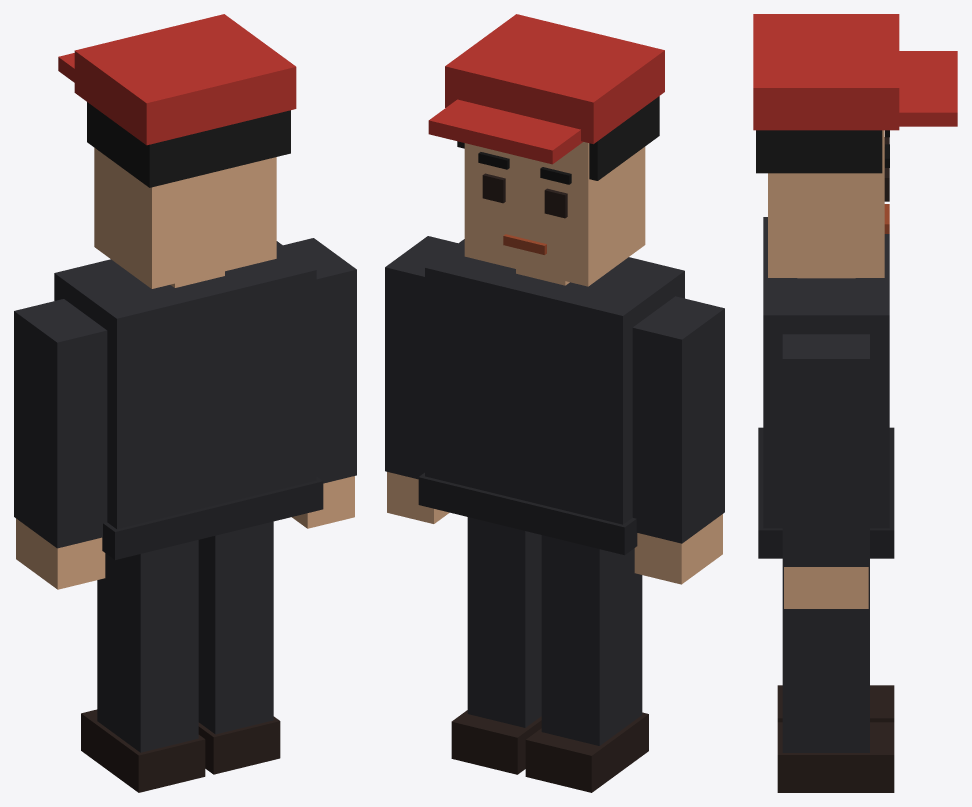
Rendered from burglar.glb.
3 renders of one model, left to right at view 1: azimuth 30°, elevation 25°; view 2: azimuth 150°, elevation 25°; view 3: azimuth 270°, elevation 25°, orthographic. The views are drawn at different scales.
Parts seen in each view (by area): view 1: Box9, Box3, Box19, Box1, Box12, Box5, Box7, Box18, Box10, Box2, Box4, Box6 (+1 smaller); view 2: Box9, Box3, Box1, Box12, Box19, Box5, Box7, Box10, Box20, Box2, Box6, Box4 (+4 smaller); view 3: Box7, Box19, Box9, Box5, Box12, Box6, Box18, Box20, Box8, Box10, Box2.
Part boxes in pixels (left/top/right/bottom): Box9: left=54, top=241, right=316, bottom=529; Box3: left=14, top=299, right=107, bottom=548; Box19: left=74, top=14, right=296, bottom=145; Box1: left=97, top=540, right=198, bottom=752; Box12: left=94, top=148, right=276, bottom=288; Box5: left=198, top=521, right=273, bottom=734; Box7: left=283, top=238, right=356, bottom=483; Box18: left=87, top=102, right=290, bottom=187; Box10: left=102, top=477, right=323, bottom=559; Box2: left=81, top=709, right=205, bottom=792; Box4: left=16, top=518, right=105, bottom=589; Box6: left=198, top=716, right=280, bottom=774; Box9: left=425, top=239, right=684, bottom=524; Box3: left=632, top=296, right=724, bottom=543; Box1: left=541, top=535, right=642, bottom=745; Box12: left=464, top=142, right=645, bottom=286; Box19: left=445, top=14, right=664, bottom=144; Box5: left=467, top=517, right=541, bottom=727; Box7: left=385, top=236, right=457, bottom=479; Box10: left=418, top=472, right=637, bottom=555; Box20: left=428, top=99, right=583, bottom=164; Box2: left=525, top=712, right=648, bottom=792; Box6: left=451, top=710, right=541, bottom=774; Box4: left=634, top=514, right=722, bottom=584; Box7: left=782, top=334, right=869, bottom=566; Box19: left=753, top=14, right=899, bottom=130; Box9: left=763, top=217, right=889, bottom=528; Box5: left=782, top=567, right=869, bottom=752; Box12: left=768, top=130, right=884, bottom=277; Box6: left=777, top=722, right=894, bottom=792; Box18: left=756, top=130, right=882, bottom=173; Box20: left=899, top=51, right=957, bottom=126; Box8: left=784, top=567, right=868, bottom=608; Box10: left=758, top=427, right=894, bottom=558; Box2: left=777, top=685, right=894, bottom=722.
Size of the model in its own units: 0.8165 by 1.82 by 0.4763.
